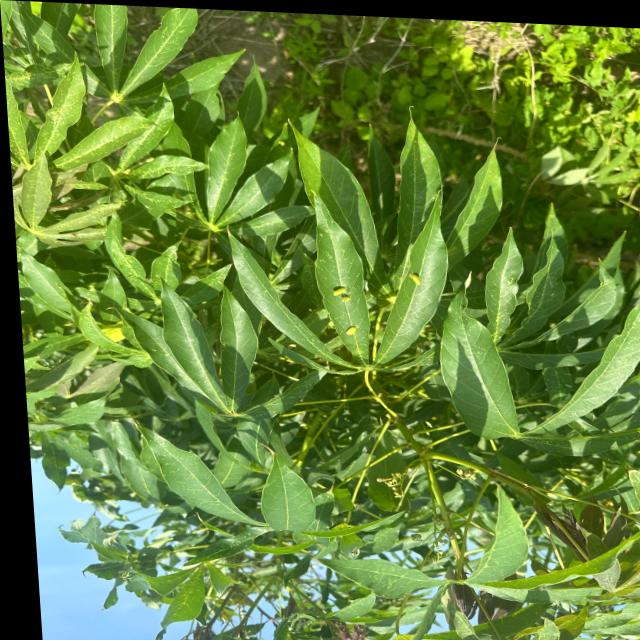Maleza: (289, 16, 544, 123), (514, 19, 639, 169)
Mosca: (331, 282, 357, 303), (405, 267, 428, 290), (342, 322, 362, 338)
